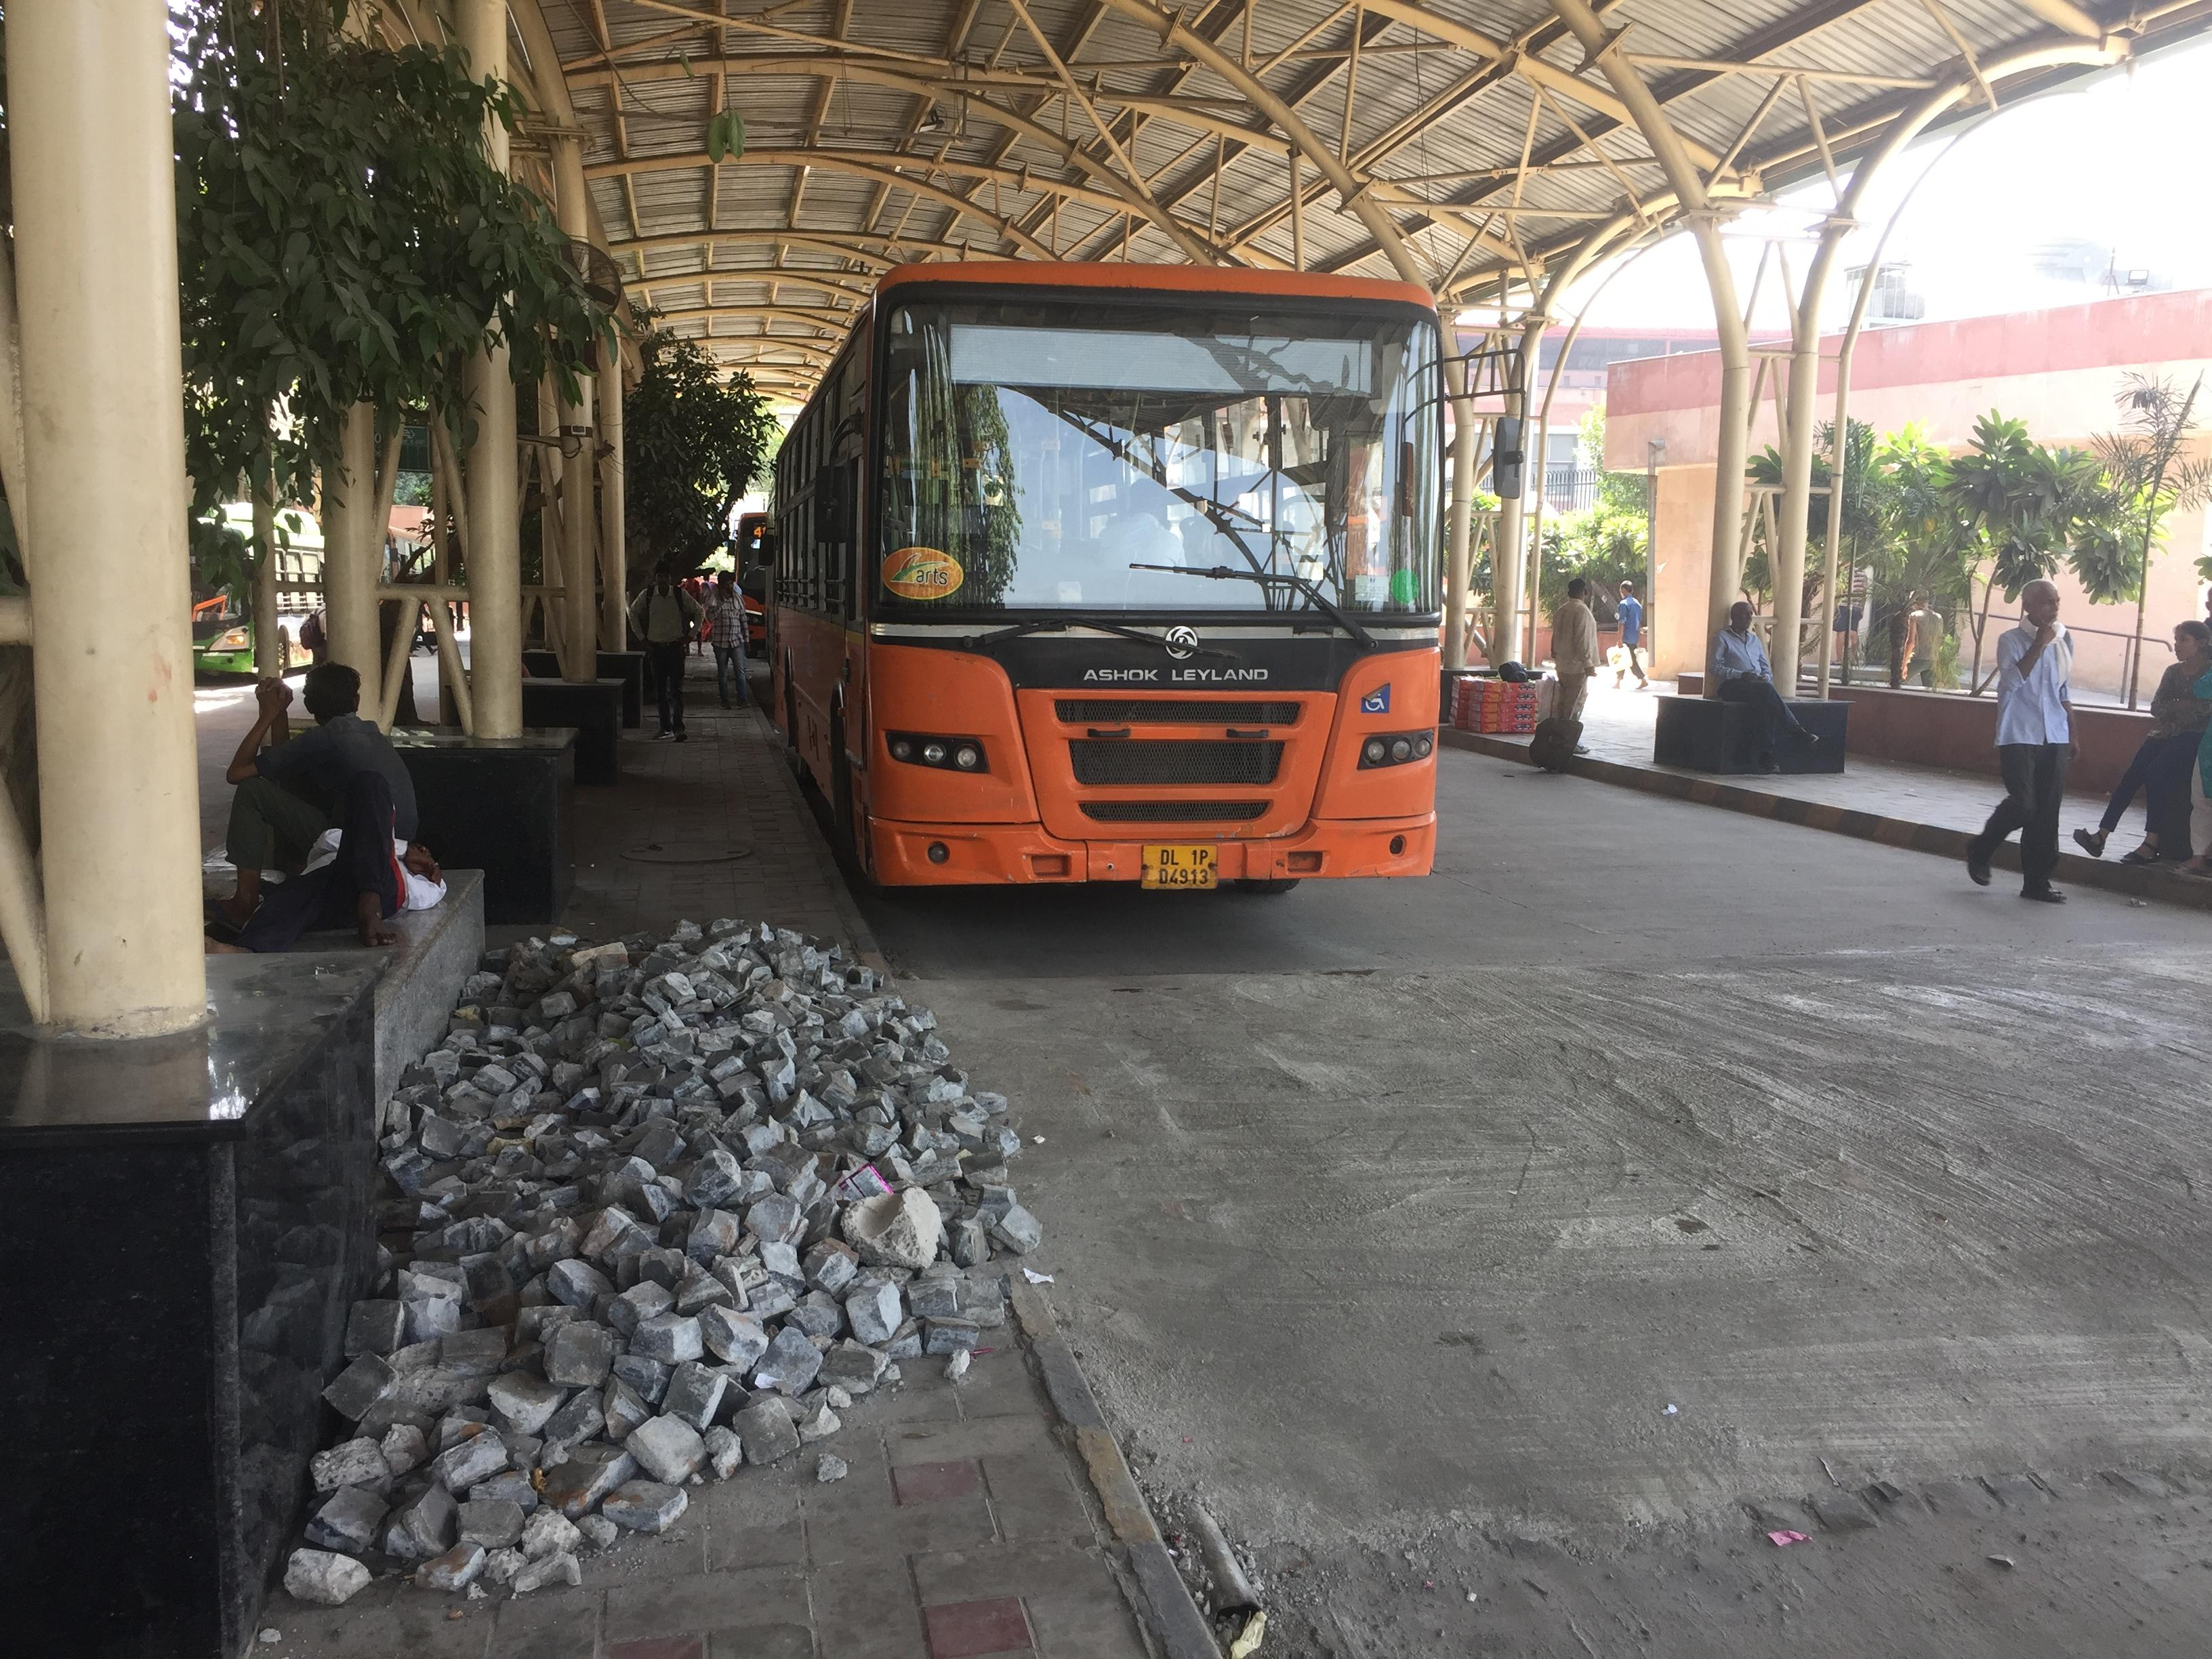Bus: (871, 247, 1488, 918)
Display Board: (912, 298, 1447, 427)
License Plate: (1115, 830, 1267, 901)
